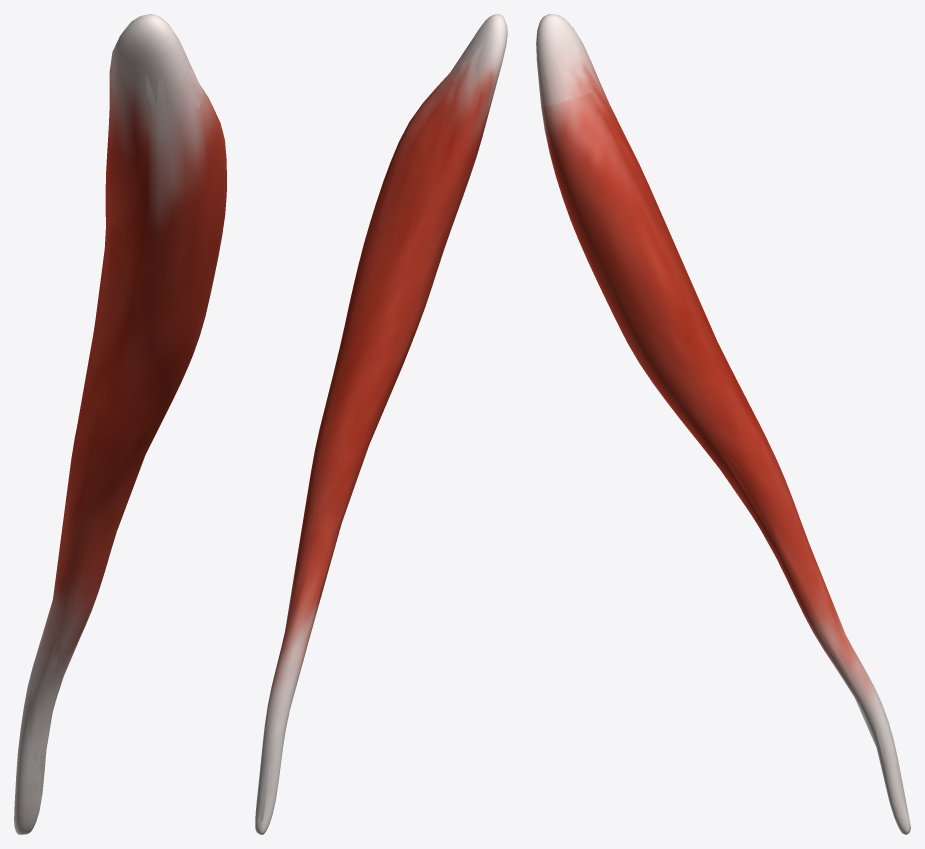
Rendered from R Tibialis Cranialis.fbx.
3 renders of one model, left to right at view 1: azimuth 30°, elevation 25°; view 2: azimuth 150°, elevation 25°; view 3: azimuth 270°, elevation 25°, orthographic. The views are drawn at different scales.
Parts seen in each view (by area): view 1: R Tibialis Cranialis, R Tibialis Cranialis low; view 2: R Tibialis Cranialis, R Tibialis Cranialis low; view 3: R Tibialis Cranialis, R Tibialis Cranialis low.
Boxes of the visible parts, x1,y1,x2,y2 form: R Tibialis Cranialis: (14, 14, 226, 834); R Tibialis Cranialis low: (25, 17, 205, 796); R Tibialis Cranialis: (255, 14, 507, 834); R Tibialis Cranialis low: (257, 32, 504, 824); R Tibialis Cranialis: (536, 14, 910, 834); R Tibialis Cranialis low: (542, 16, 909, 833).
Size of the model in its own units: 6.8 by 45.28 by 19.71.
